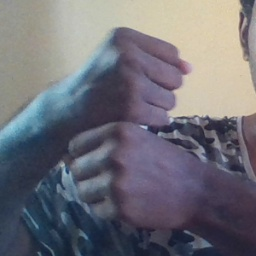G: (62, 25, 193, 226)
